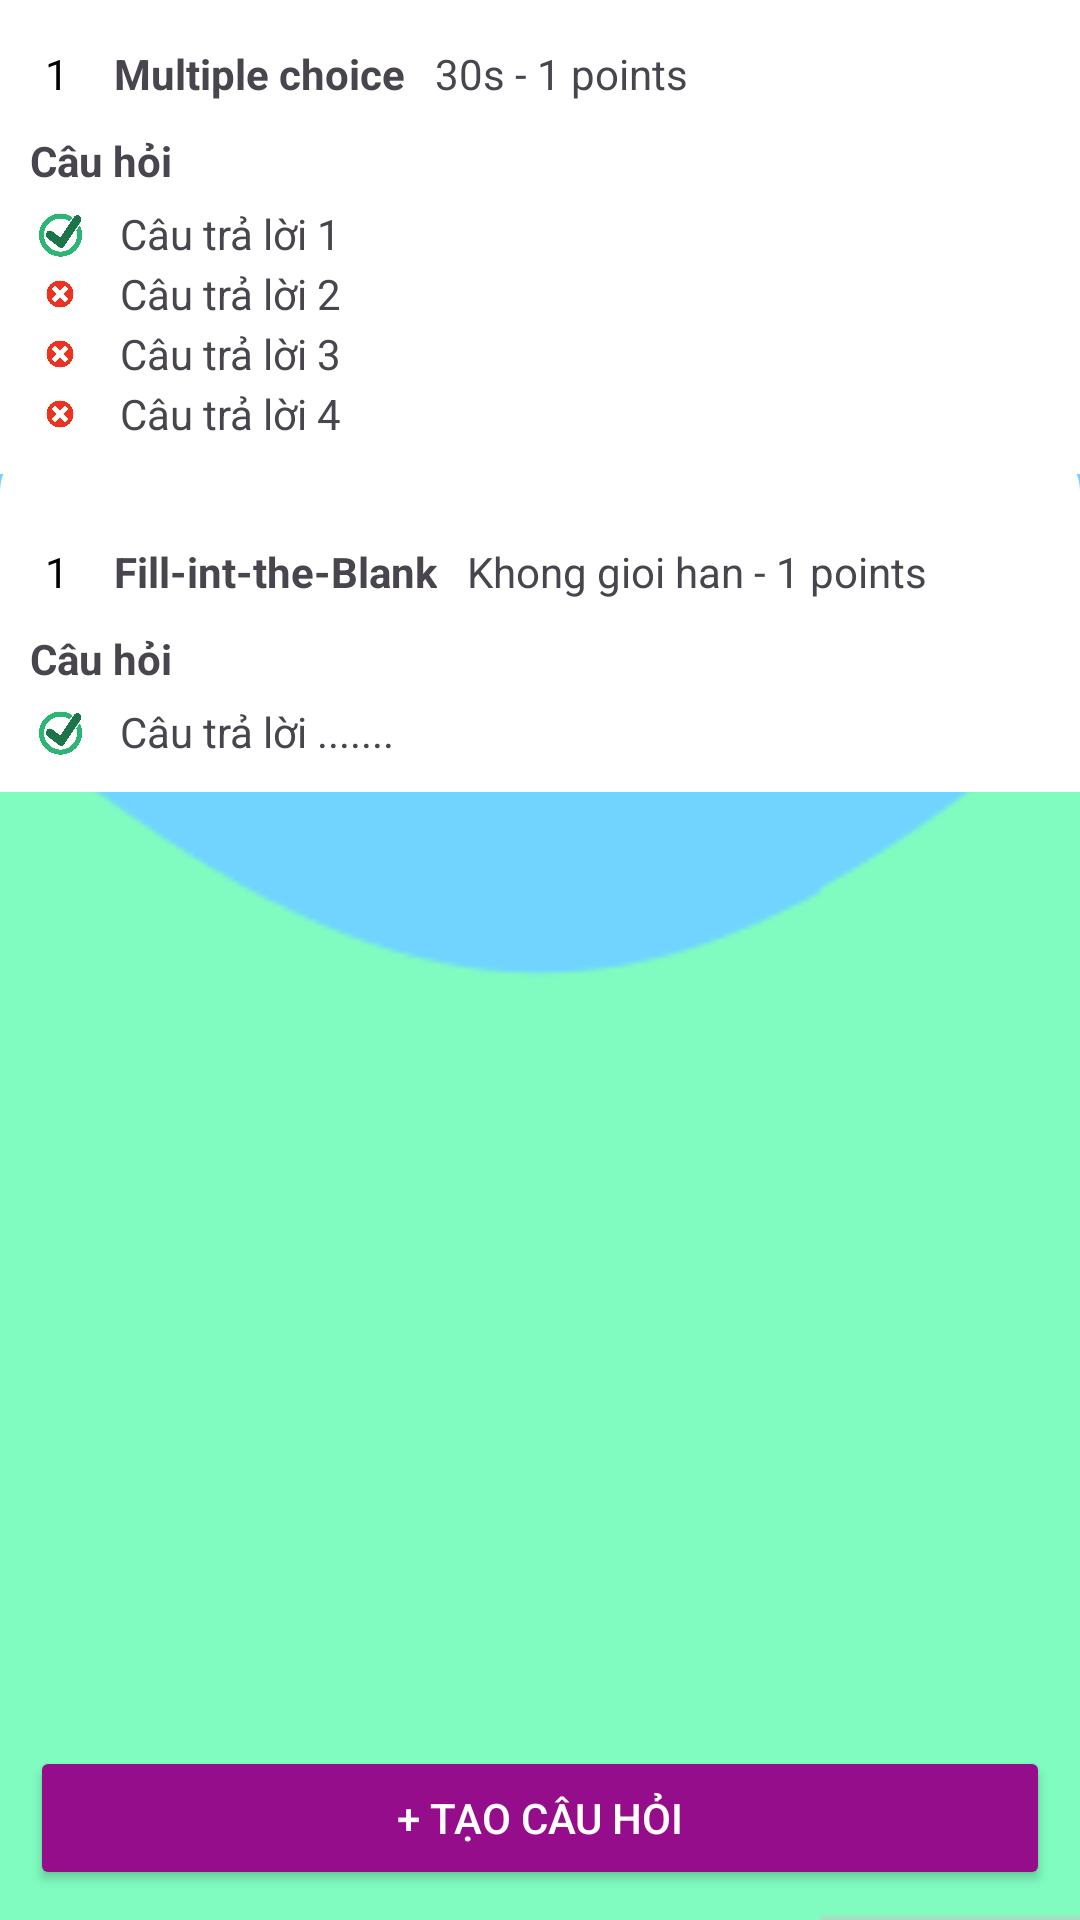

Named icons in this screenshot (1080 x 1920) and their bounding boxes, (x1, y1, x2, y2):
dung: (39, 213, 82, 257), (39, 711, 82, 755)
wrong: (46, 280, 74, 308), (46, 340, 74, 368), (46, 400, 74, 428)
